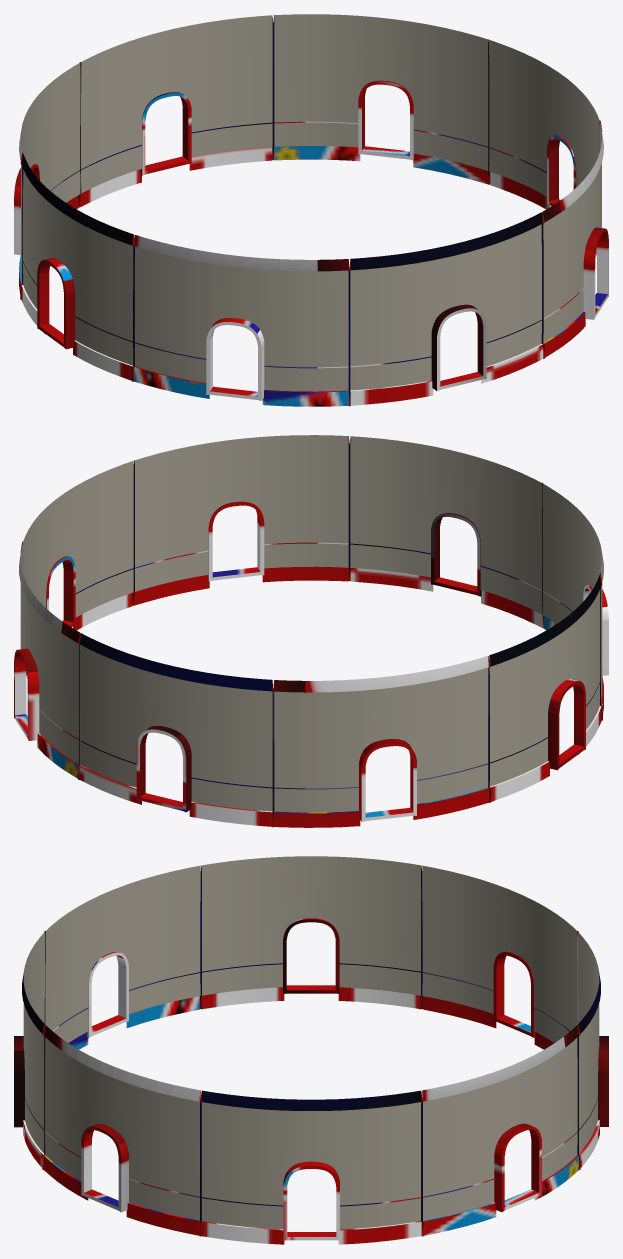
Rendered from OV Wall.fbx.
3 views of the same model, one above another, from view 1: azimuth 30°, elevation 25°; view 2: azimuth 150°, elevation 25°; view 3: azimuth 270°, elevation 25° (orthographic).
Parts seen in each view (by area): view 1: polySurface462; view 2: polySurface462; view 3: polySurface462.
Part boxes in pixels (left/top/right/bottom): polySurface462: left=14, top=14, right=608, bottom=406; polySurface462: left=14, top=435, right=608, bottom=827; polySurface462: left=14, top=856, right=608, bottom=1244.
Size of the model in its own units: 1853 by 497 by 1853.
2 materials, 1 textured.
